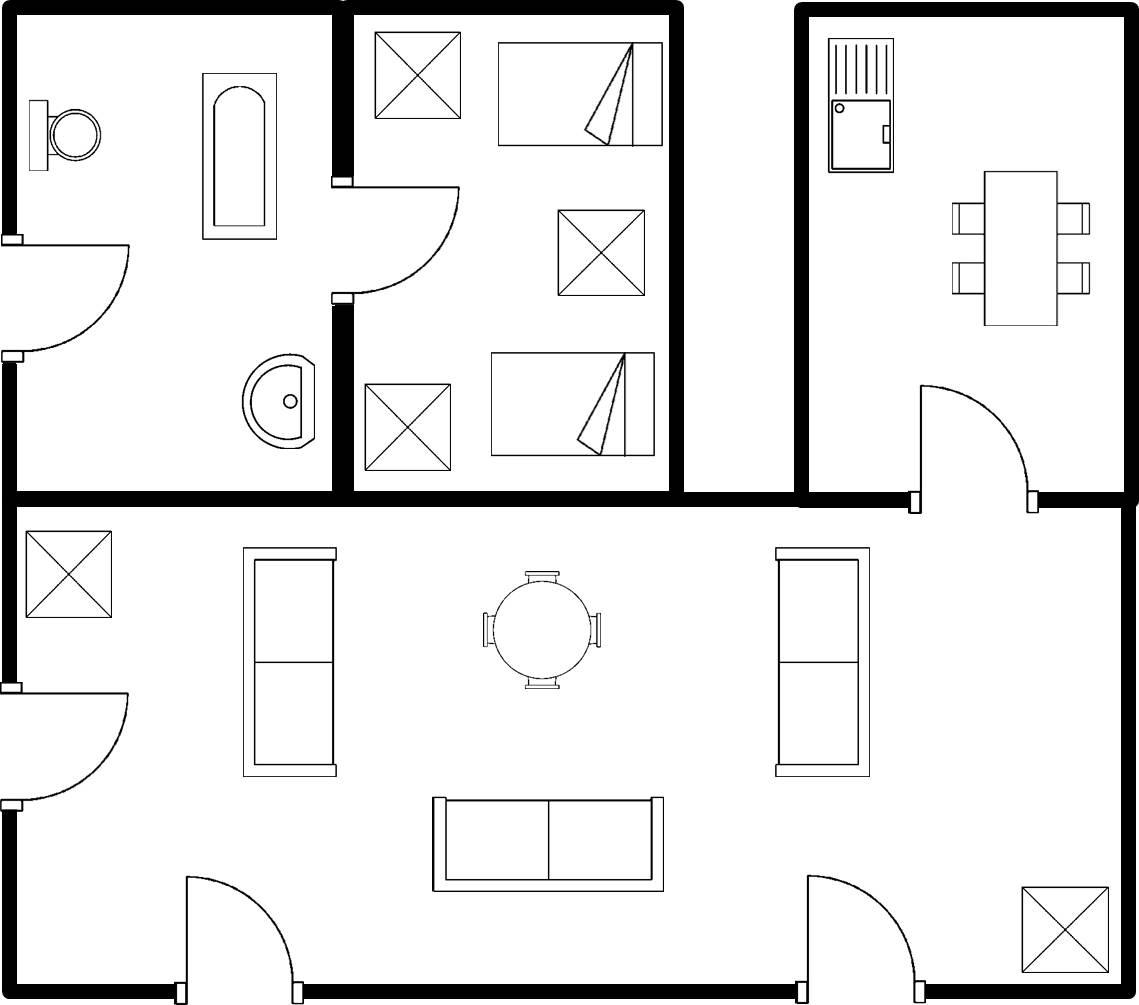bed: (490, 32, 666, 152), (484, 342, 658, 462)
dining_table: (945, 162, 1098, 336)
round_table: (764, 540, 876, 784), (475, 562, 610, 694)
sink: (817, 30, 903, 179)
sofa: (424, 787, 673, 898), (236, 538, 339, 783)
toilet: (21, 93, 104, 177)
tub: (193, 66, 284, 250)
